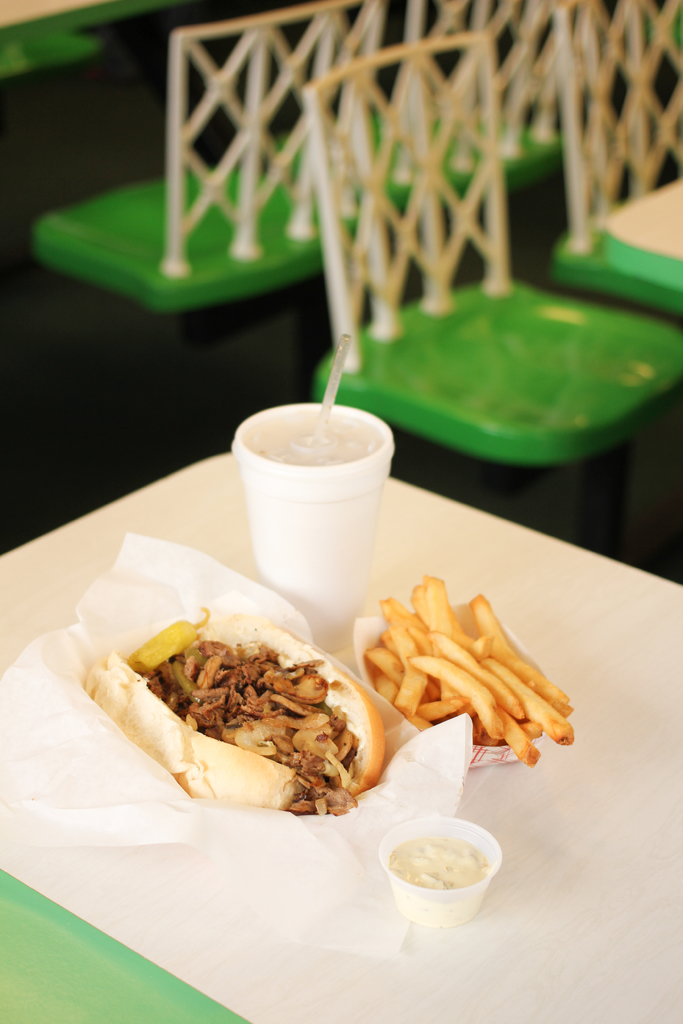French fries: (358, 567, 579, 773)
